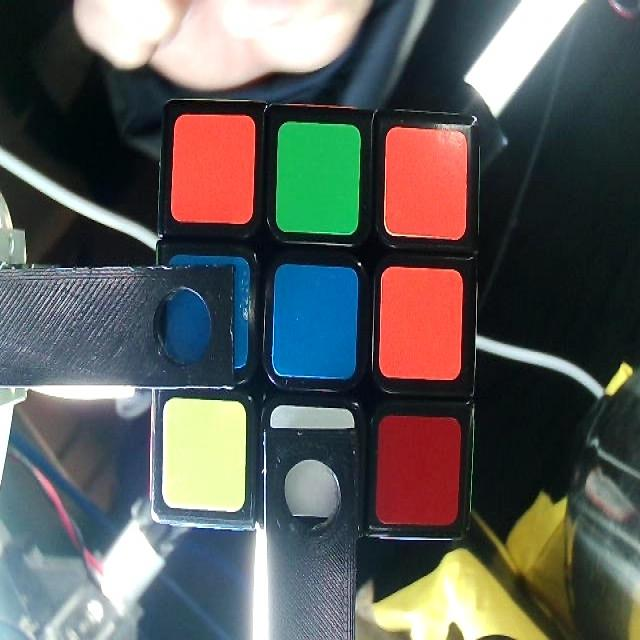b: (167, 254, 247, 364), (275, 264, 355, 372)
g: (279, 122, 360, 236)
o: (386, 130, 466, 240), (382, 268, 460, 378), (174, 114, 254, 220)
r: (380, 415, 458, 526)
w: (272, 408, 352, 517)
y: (165, 399, 245, 512)
